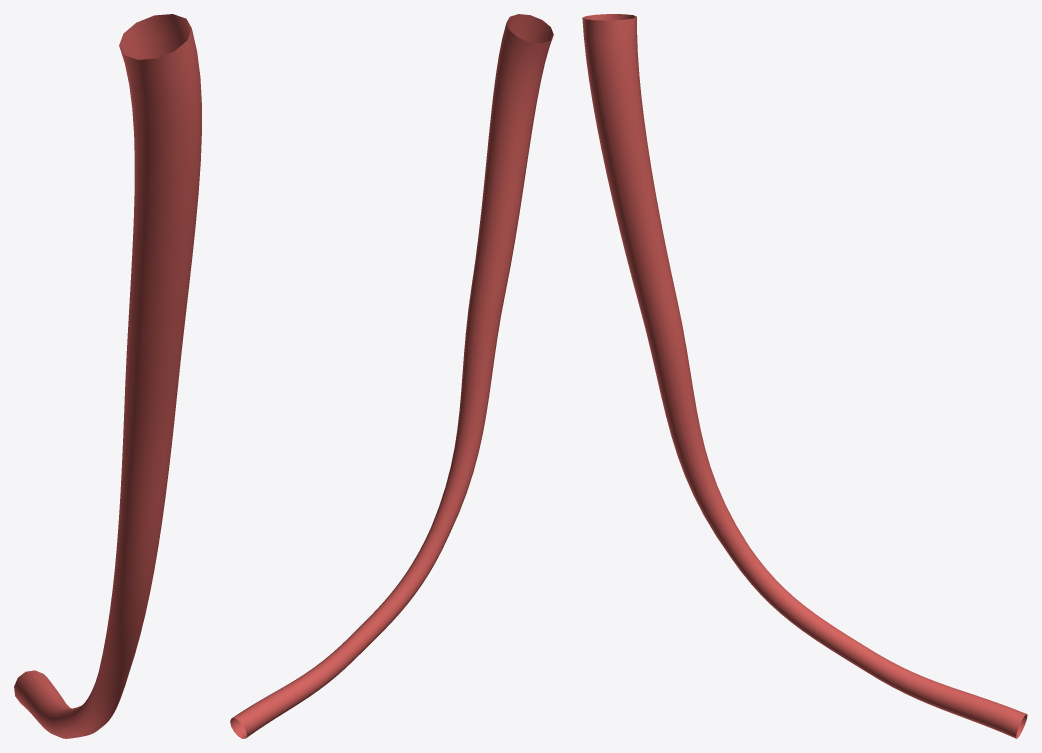
The picture shows the model from 3 angles, left to right: view 1: azimuth 30°, elevation 25°; view 2: azimuth 150°, elevation 25°; view 3: azimuth 270°, elevation 25°; orthographic projection. The views are drawn at different scales.
Parts seen in each view (by area): view 1: 右侧眶下动脉; view 2: 右侧眶下动脉; view 3: 右侧眶下动脉.
Boxes of the visible parts, x1=… form: 右侧眶下动脉: x1=14, y1=14, x2=201, y2=738; 右侧眶下动脉: x1=230, y1=14, x2=553, y2=738; 右侧眶下动脉: x1=582, y1=14, x2=1027, y2=738.
Size of the model in its own units: 0.00934 by 0.0399 by 0.024.
